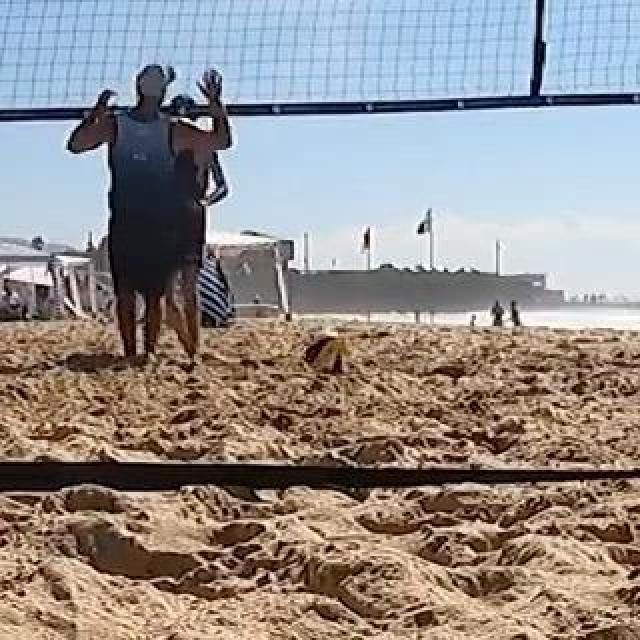volleyball: (302, 329, 350, 375)
